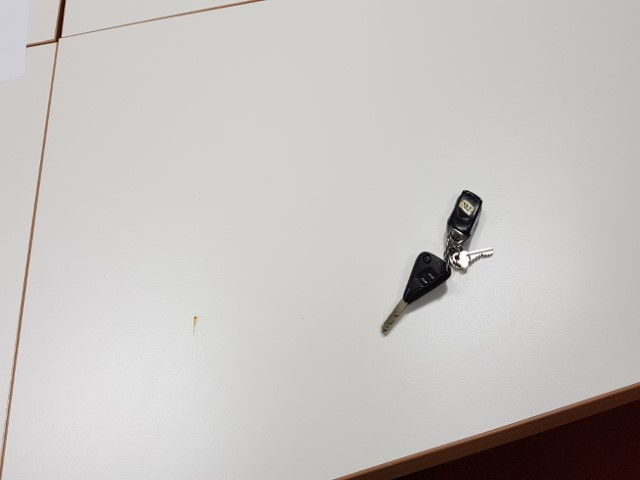key: (382, 251, 450, 332)
